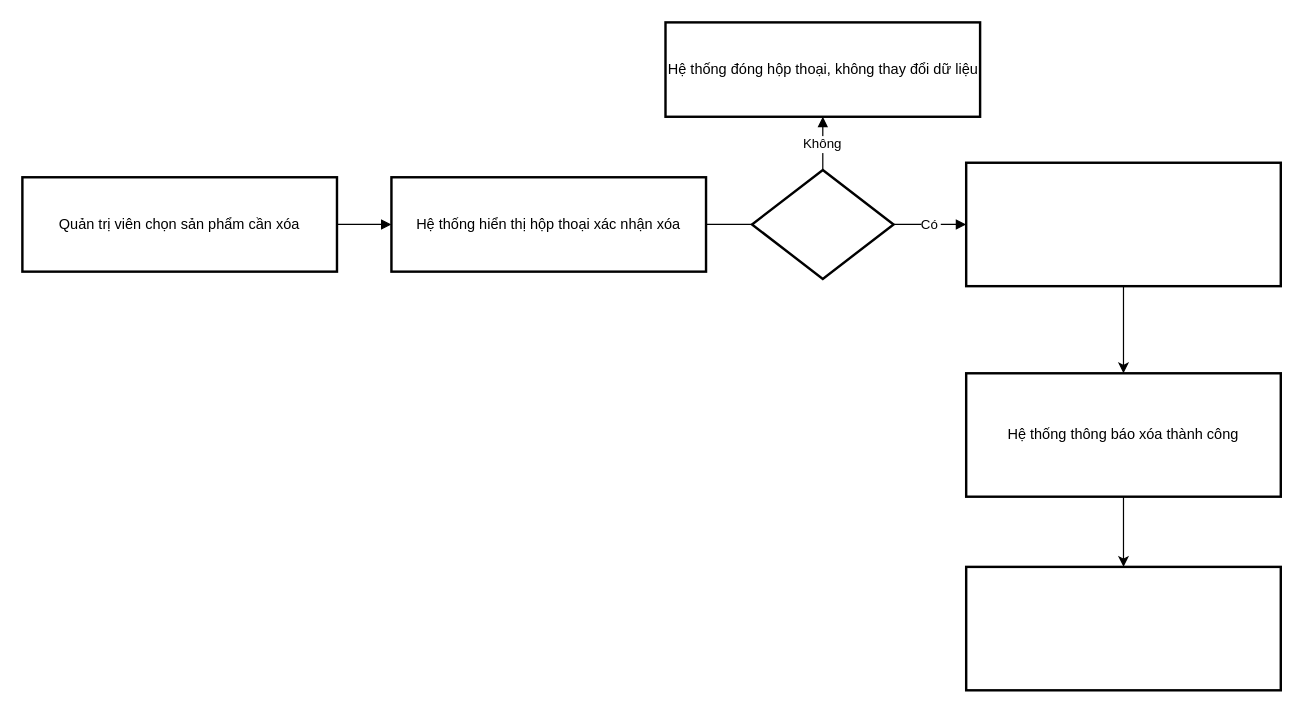
Some shapes in this 1302 by 711 pixel diagram are drawn without their labels. The shapes that lost their labels are listed below. From the top down, each one's centre as x and y in pixels, then its label:
At [1122,224]: "Hệ thống xóa sản phẩm khỏi cơ sở dữ liệu".
At [1122,628]: "Quy trình kết thúc".
